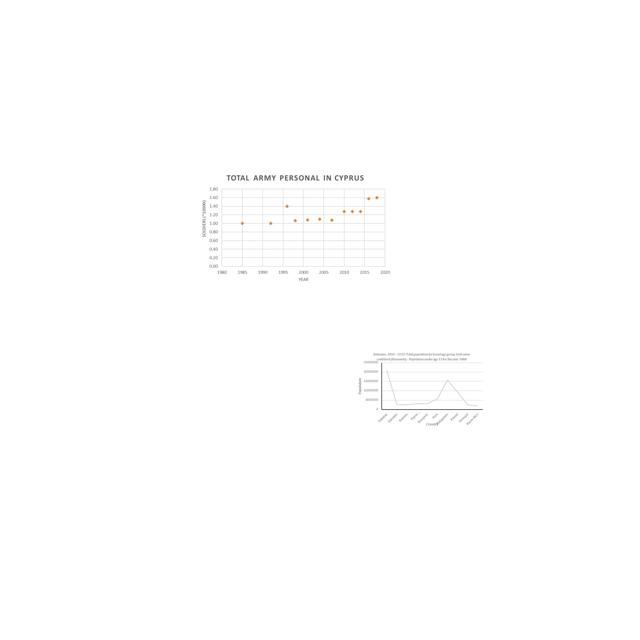Graph: (201, 172, 391, 285), (358, 351, 485, 427)
